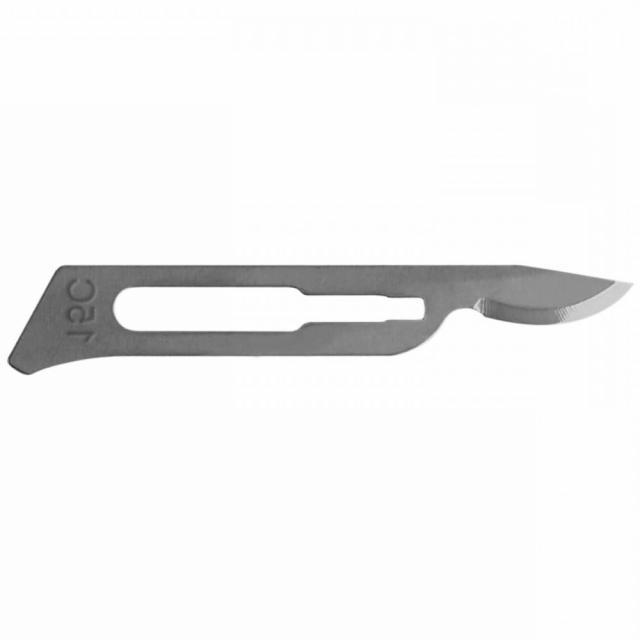Scalpel: (8, 259, 636, 377)
